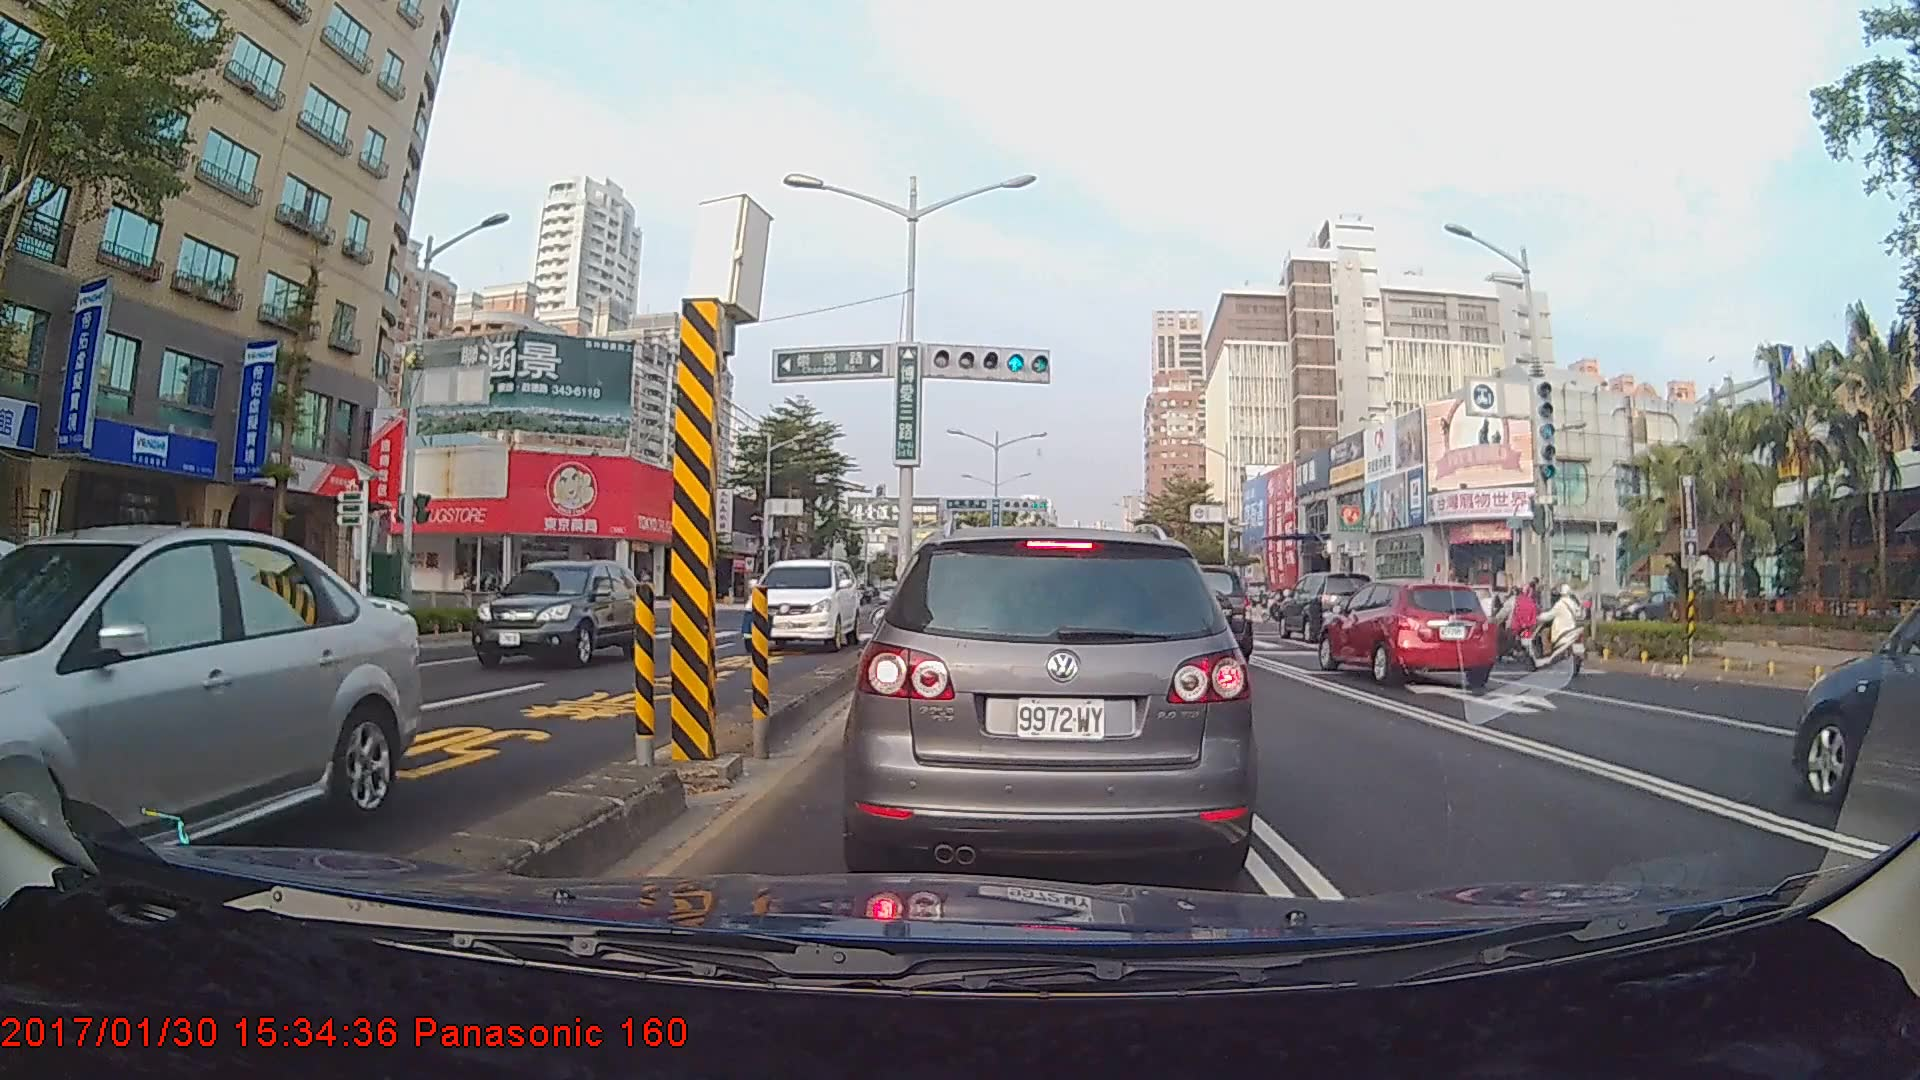rider: (1518, 586, 1588, 684)
vehicle: (0, 522, 422, 917), (858, 523, 1245, 877), (1792, 573, 1919, 822), (467, 557, 646, 668), (1315, 577, 1496, 687), (1142, 562, 1253, 671), (741, 558, 860, 652), (1275, 569, 1375, 641)
